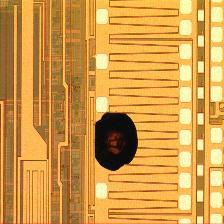BLOCK ETCH: (89, 108, 142, 175)
